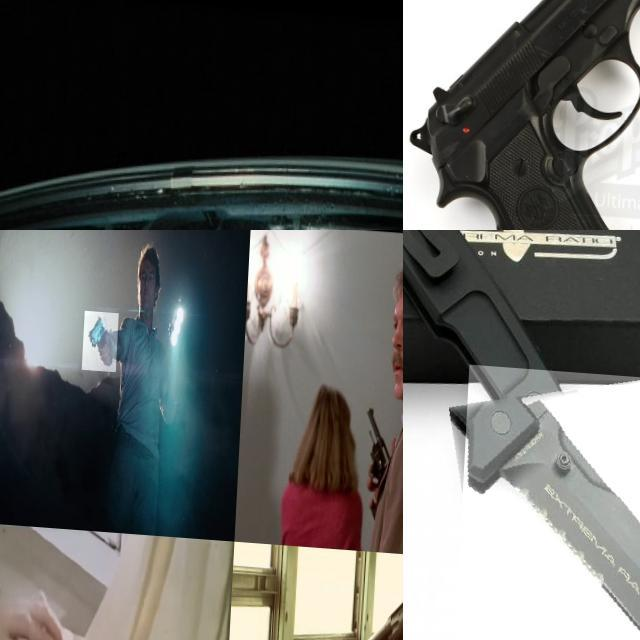-: (456, 361, 640, 640)
gun-knife-thesis - v11 Yolov5 augmented: (403, 0, 640, 230), (324, 560, 403, 640), (357, 391, 403, 498), (84, 308, 120, 369)
